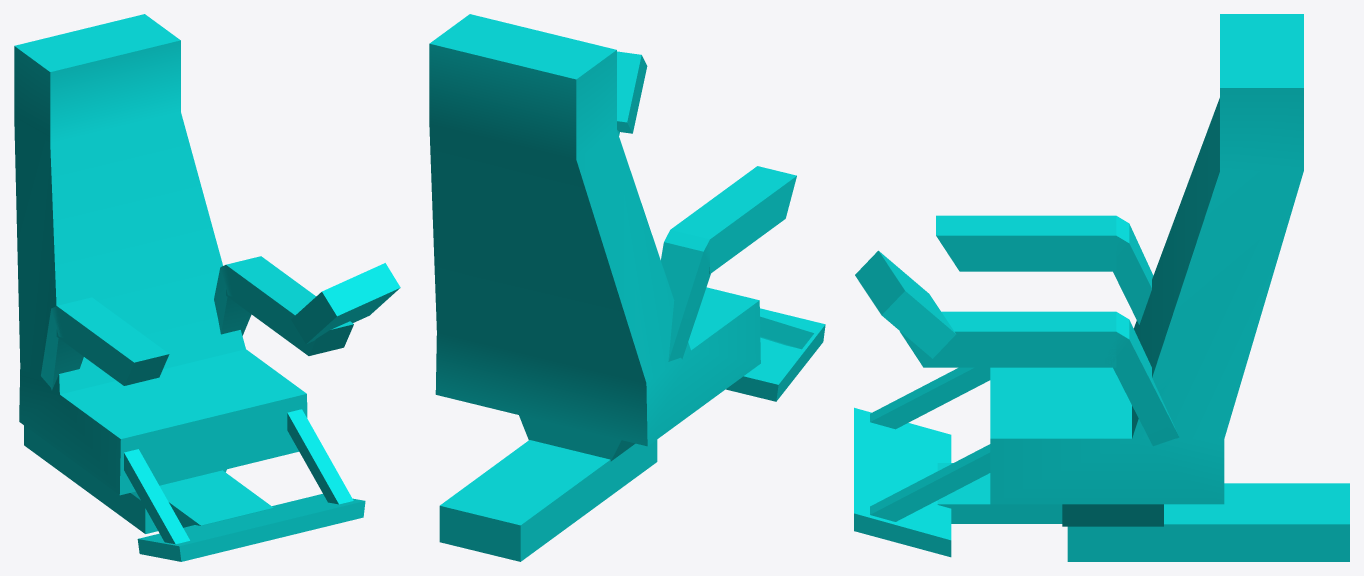
Rendered from SM_Prop_Computer_Chair_01_Collision.fbx.
3 renders of one model, left to right at view 1: azimuth 30°, elevation 25°; view 2: azimuth 150°, elevation 25°; view 3: azimuth 270°, elevation 25°, orthographic. The views are drawn at different scales.
Visible parts, largest first — view 1: SM_Prop_Computer_Chair_01_Collision; view 2: SM_Prop_Computer_Chair_01_Collision; view 3: SM_Prop_Computer_Chair_01_Collision.
Boxes of the visible parts, <box> form: SM_Prop_Computer_Chair_01_Collision: <box>14,14,400,561</box>; SM_Prop_Computer_Chair_01_Collision: <box>429,14,825,561</box>; SM_Prop_Computer_Chair_01_Collision: <box>854,14,1349,561</box>.
Size of the model in its own units: 91.19 by 151 by 138.
